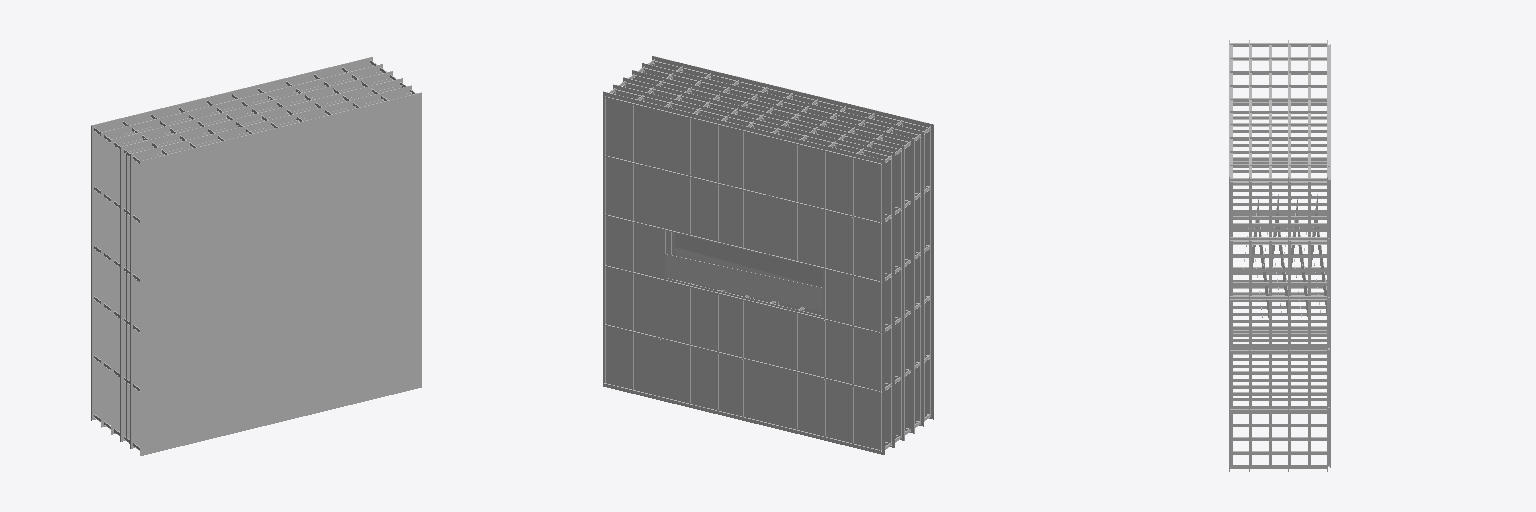
Rendered from Project1.obj.
The picture shows the model from 3 angles: view 1: azimuth 30°, elevation 25°; view 2: azimuth 150°, elevation 25°; view 3: azimuth 270°, elevation 25°; orthographic projection.
Visible parts, largest first — view 1: 3"_LW_Concrete_on_2"_Metal_Deck, W21X48, W21X44, Rectangular_-_2"x2"; view 2: 3"_LW_Concrete_on_2"_Metal_Deck, W21X48, Ramp_1, W21X44; view 3: W21X44, W21X48, 3"_LW_Concrete_on_2"_Metal_Deck, Ramp_1.
Boxes of the visible parts, x1,y1,x2,y2 form: 3"_LW_Concrete_on_2"_Metal_Deck: [91, 57, 421, 455]; W21X48: [94, 62, 419, 449]; W21X44: [94, 60, 416, 450]; Rectangular_-_2"x2": [109, 71, 412, 444]; 3"_LW_Concrete_on_2"_Metal_Deck: [603, 56, 933, 454]; W21X48: [604, 61, 930, 451]; Ramp_1: [665, 233, 822, 311]; W21X44: [609, 59, 930, 449]; W21X44: [1230, 43, 1326, 468]; W21X48: [1230, 44, 1330, 467]; 3"_LW_Concrete_on_2"_Metal_Deck: [1229, 40, 1327, 471]; Ramp_1: [1252, 194, 1326, 317].
Bounding box in the file's own units: 164 × 164 × 50.93.